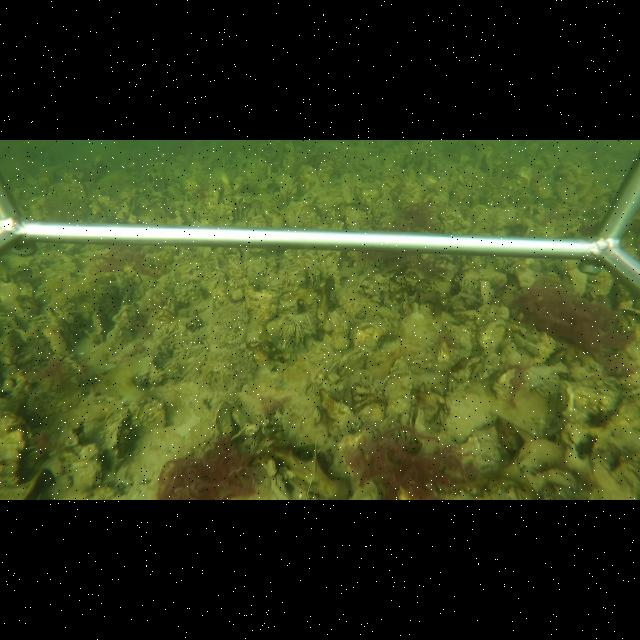Oyster-Closed: (439, 384, 501, 444), (99, 406, 131, 478), (381, 370, 413, 423), (133, 355, 170, 398), (475, 321, 509, 358), (132, 395, 170, 428), (337, 348, 371, 378), (352, 323, 386, 349), (512, 259, 534, 293), (305, 259, 321, 291), (476, 278, 493, 305)
Oyster-Open: (351, 397, 385, 416), (409, 404, 427, 433), (225, 194, 243, 222)
